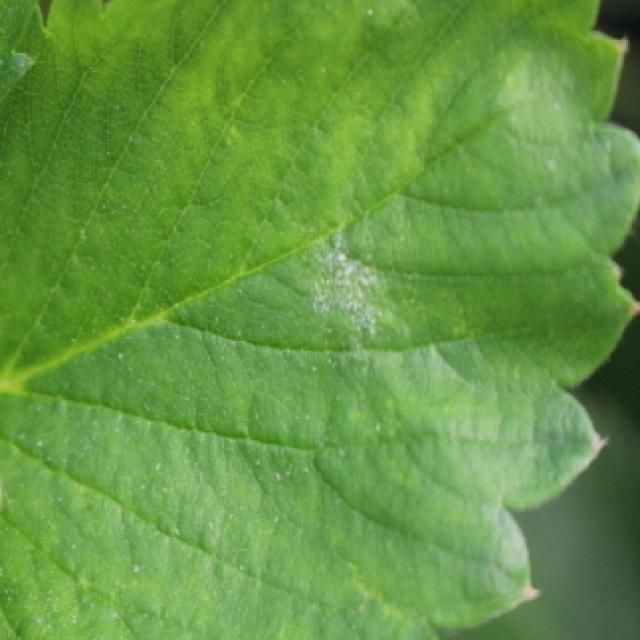Powdery Mildew Leaf: (0, 0, 640, 640)
